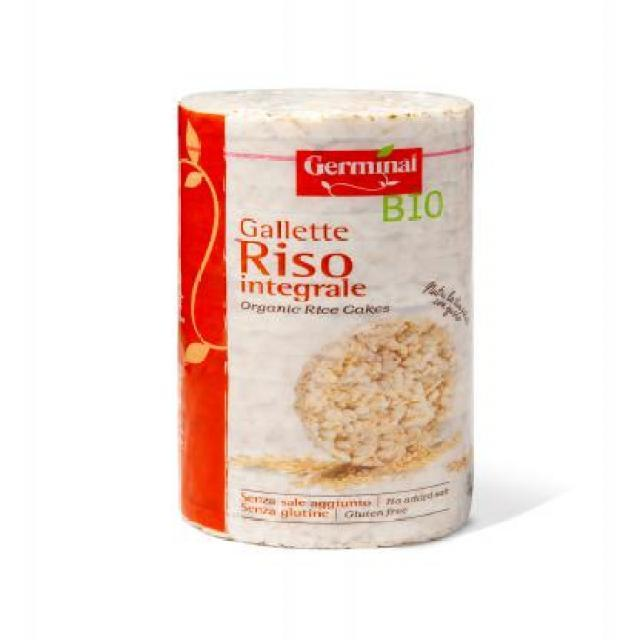Gallette di riso: (173, 85, 479, 553)
